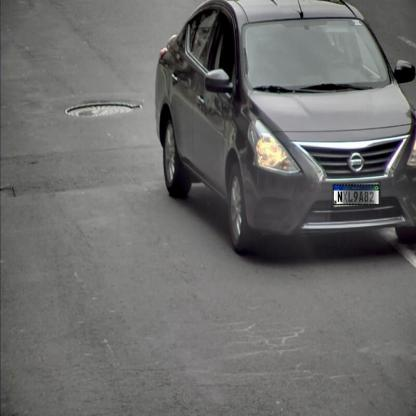PlacaM: (332, 184, 379, 206)
